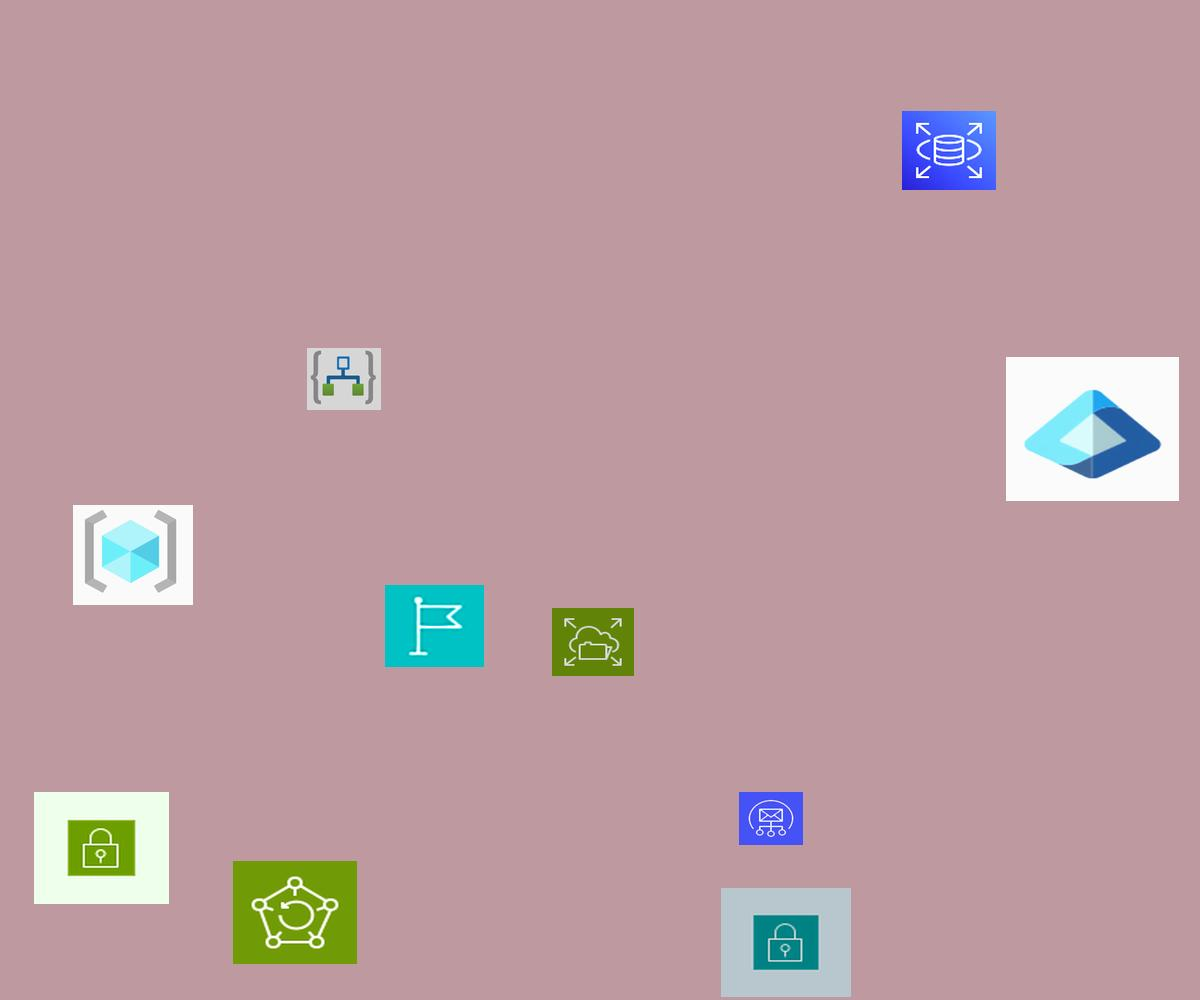AWS-Backup: (233, 861, 357, 964)
AWS-EFS: (552, 608, 634, 676)
AWS-Private-subnet: (721, 888, 851, 997)
AWS-Public-subnet: (34, 792, 169, 904)
AWS-RDS: (902, 111, 996, 190)
AWS-Region: (385, 585, 484, 667)
AWS-Simple-Email-Service: (739, 792, 803, 845)
Azure_integration-204-Logic-Apps: (307, 348, 381, 410)
Azure_microsoft_entra: (1006, 357, 1179, 501)
Azure_resource_group: (73, 505, 193, 605)
